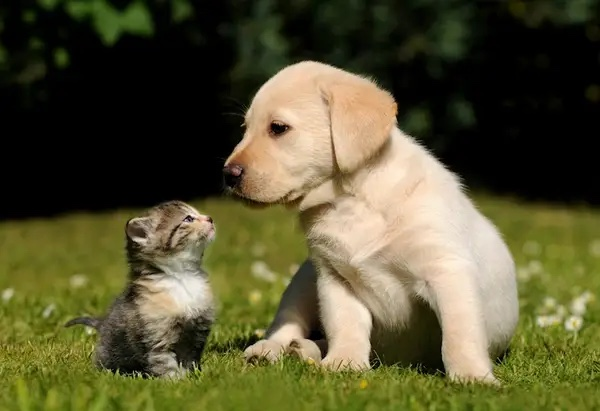cat: (93, 200, 218, 380)
dog: (223, 60, 520, 383)
